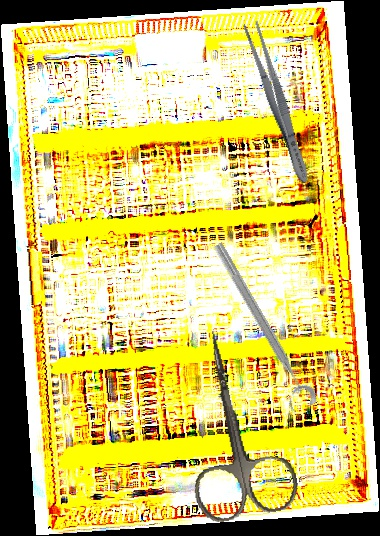Dressing Forceps: (240, 19, 315, 186)
Fixation Ring: (200, 239, 320, 416)
Iris Scissors: (163, 320, 303, 527)
